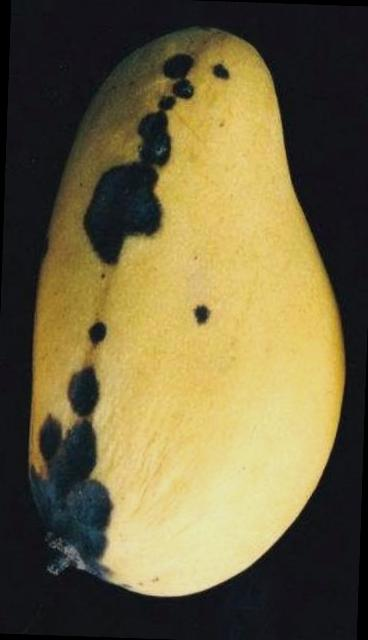Mango Overripe: (7, 14, 368, 602)
